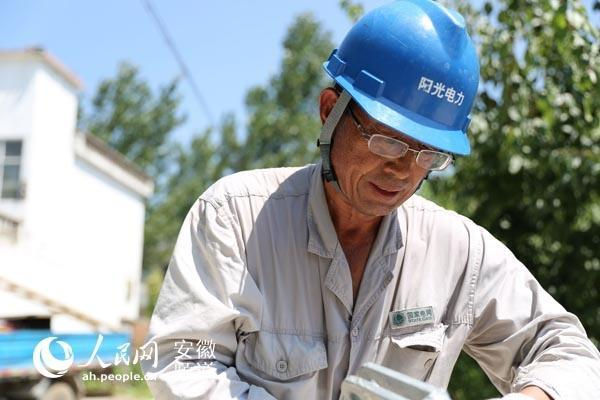helmet: (318, 10, 491, 170)
no-vest: (199, 170, 474, 400)
person: (152, 0, 600, 400)
